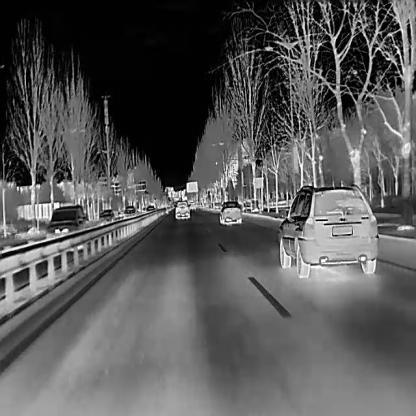car: (277, 181, 378, 278), (48, 204, 89, 248), (218, 199, 241, 223), (173, 198, 189, 218), (98, 208, 115, 226), (122, 204, 136, 218), (146, 203, 155, 214), (189, 201, 195, 209)
